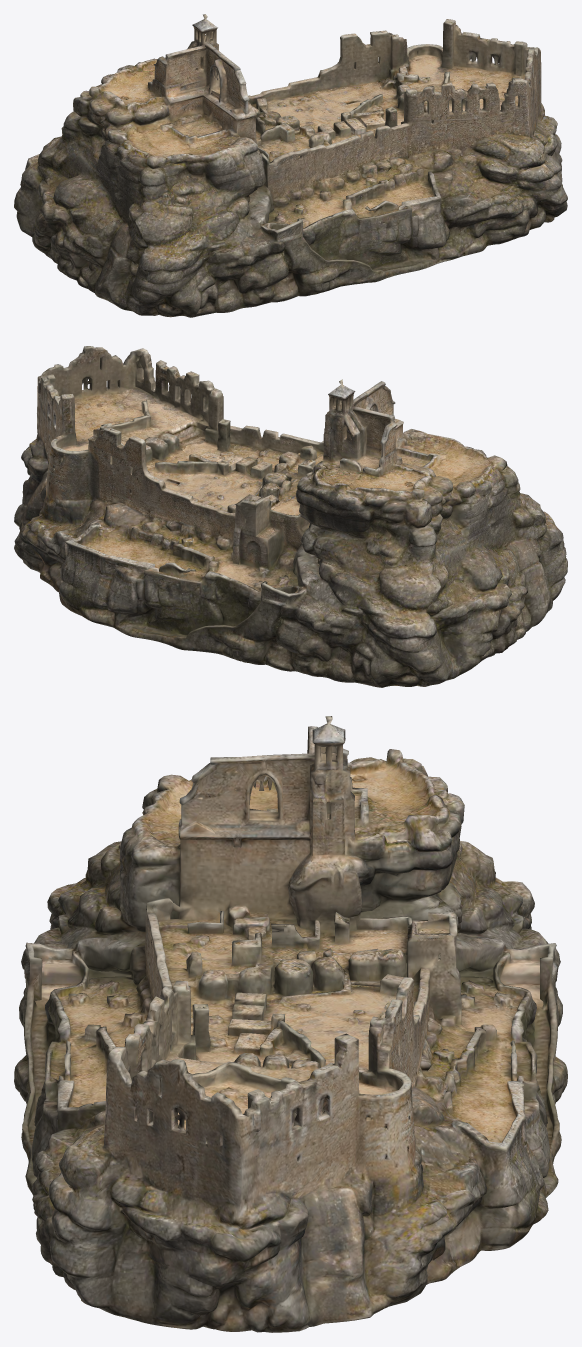
File: burg_oybin.glb
The picture shows the model from 3 angles, top to bottom: view 1: azimuth 30°, elevation 25°; view 2: azimuth 150°, elevation 25°; view 3: azimuth 270°, elevation 25°; orthographic projection. The views are drawn at different scales.
Parts seen in each view (by area): view 1: tripo_node_3dc6de01-7e43-48ac-8d24-844eb3a547bb; view 2: tripo_node_3dc6de01-7e43-48ac-8d24-844eb3a547bb; view 3: tripo_node_3dc6de01-7e43-48ac-8d24-844eb3a547bb.
Boxes of the visible parts, bbox=[...] form: tripo_node_3dc6de01-7e43-48ac-8d24-844eb3a547bb: bbox=[14, 14, 567, 317]; tripo_node_3dc6de01-7e43-48ac-8d24-844eb3a547bb: bbox=[14, 346, 567, 687]; tripo_node_3dc6de01-7e43-48ac-8d24-844eb3a547bb: bbox=[14, 716, 567, 1332].
Bounding box in the file's own units: 1 × 0.4383 × 0.6023.
Materials: 1 (1 with a texture image).
